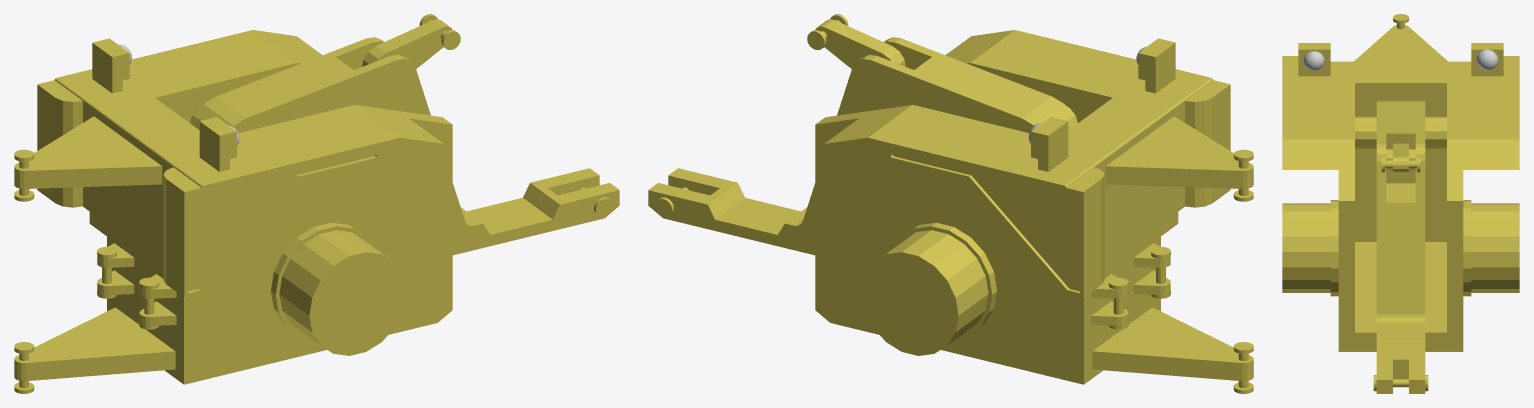
The model's file is frontbase_link.dae.
The picture shows the model from 3 angles, left to right: view 1: azimuth 30°, elevation 25°; view 2: azimuth 150°, elevation 25°; view 3: azimuth 270°, elevation 25°; orthographic projection. The views are drawn at different scales.
Parts seen in each view (by area): view 1: frontbase_link; view 2: frontbase_link; view 3: frontbase_link, Sphere_003, Sphere_001.
Part boxes in pixels (<box>): frontbase_link: <box>14,14,619,393</box>; frontbase_link: <box>648,14,1253,393</box>; frontbase_link: <box>1282,14,1519,393</box>; Sphere_003: <box>1303,51,1324,70</box>; Sphere_001: <box>1476,49,1495,67</box>.
Size of the model in its own units: 3.4 by 1.47 by 1.48.
